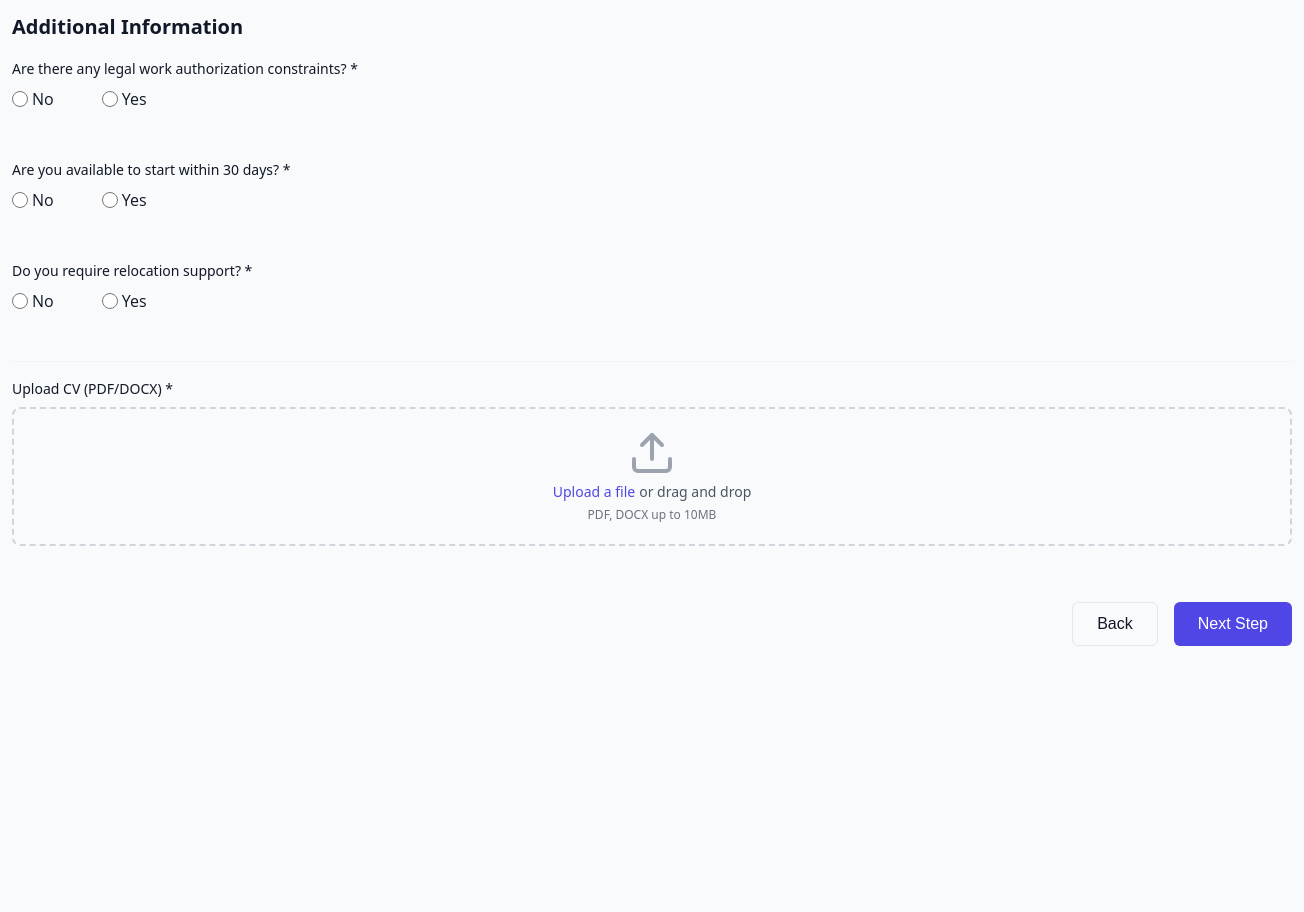
Test case: Step3_Questionnaire › should show validation errors when Next is clicked without answering questions
The width and height of the screenshot is (1304, 912).
What coordinates should you click on to do the following:
click the button "Next Step"
I would click on:
 (1233, 624)
Its box is [1174,602,1292,646].
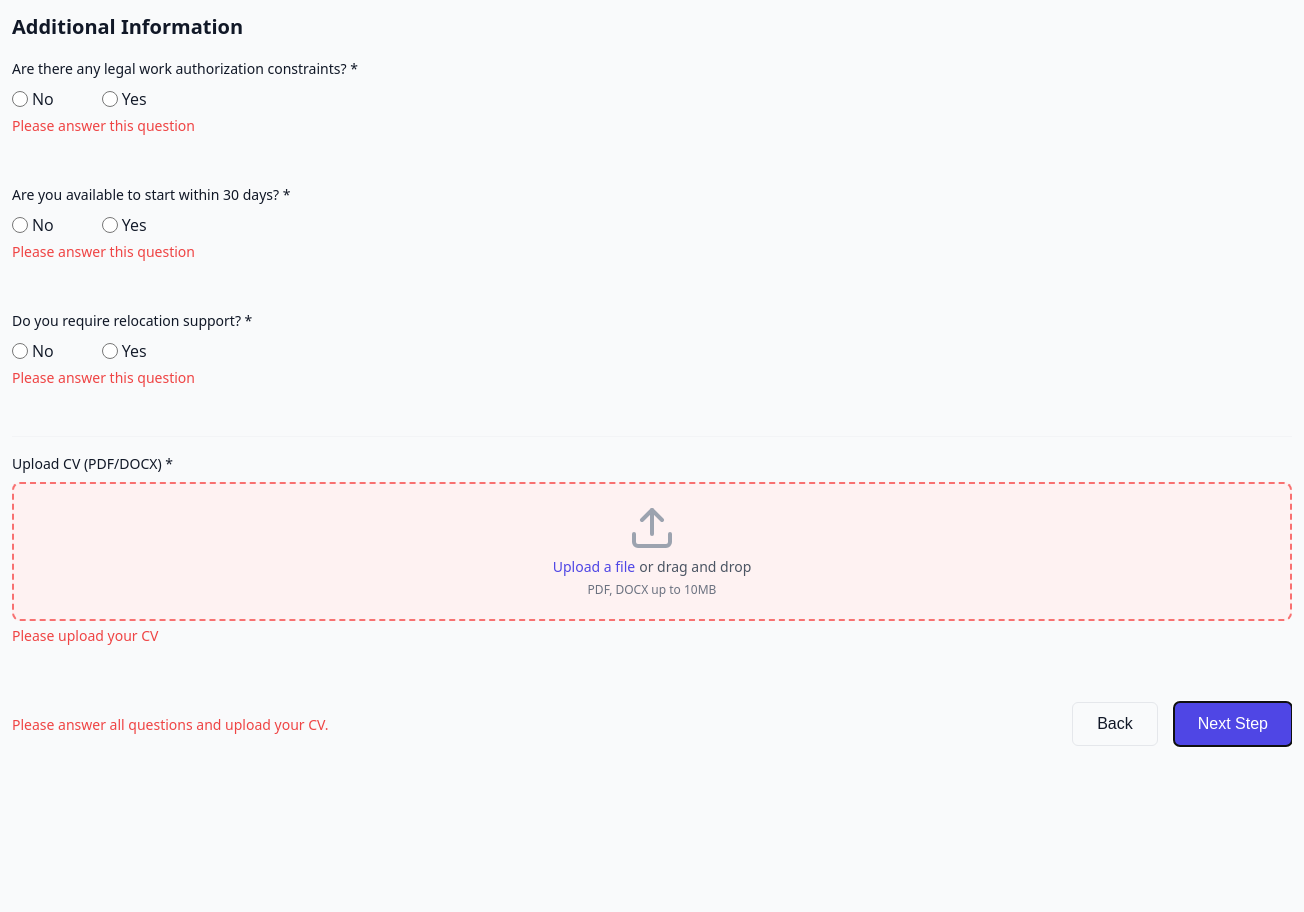
Expected: the text "Please answer all questions and upload your CV." is shown, [12,715,328,734]
